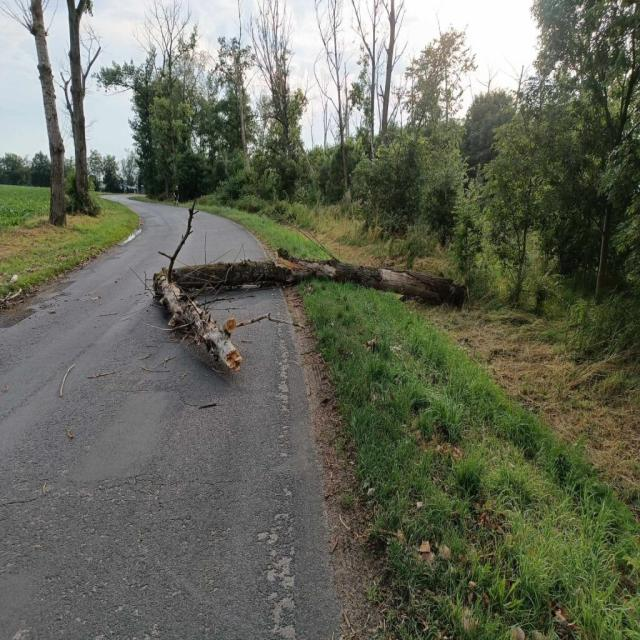fallen_tree: (173, 258, 463, 310), (152, 270, 234, 377)
